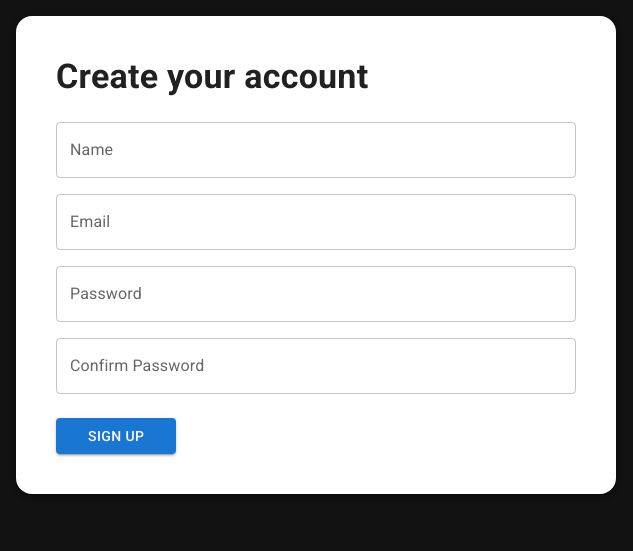
Test: Signup Component › navigates softly off page on success
The width and height of the screenshot is (633, 551).
Type "John" into the field named "name" at [316, 150], box [56,122,576,178]
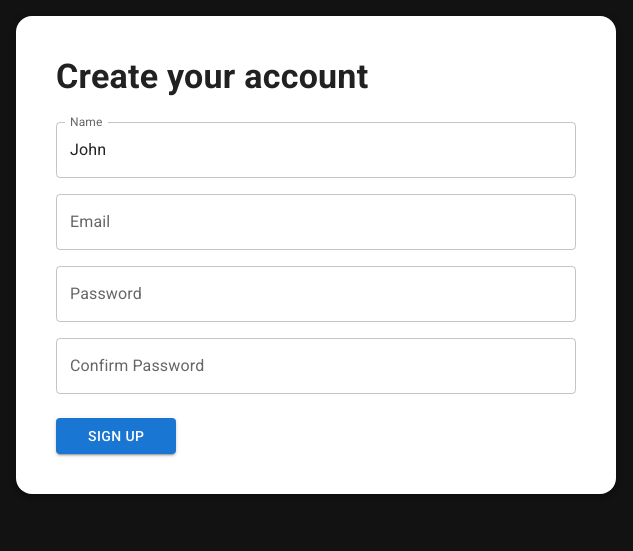
Type "john@test.com" into the field named "email" at [316, 222], box [56,194,576,250]
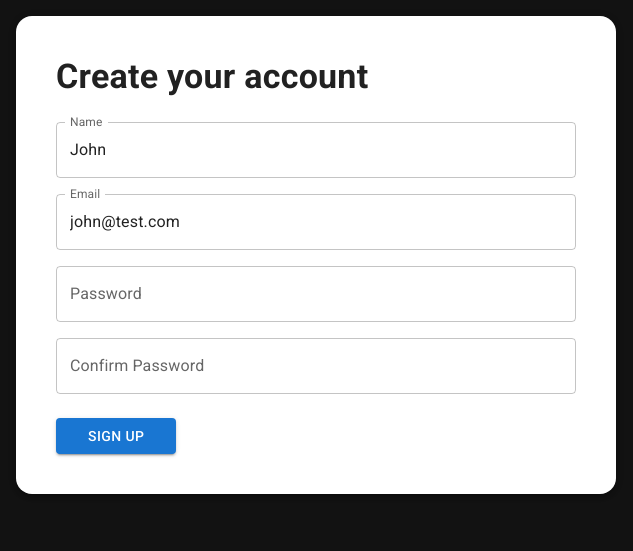
Type "password123" into the password field named "password1" at [316, 294], box [56,266,576,322]
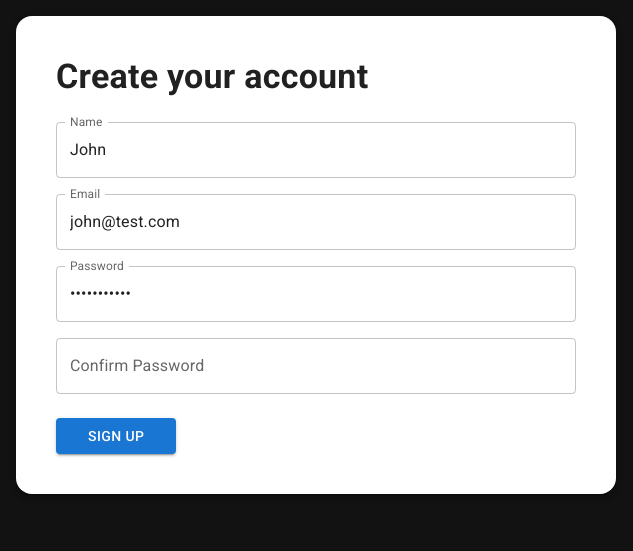
Type "password123" into the password field named "password2" at [316, 366], box [56,338,576,394]
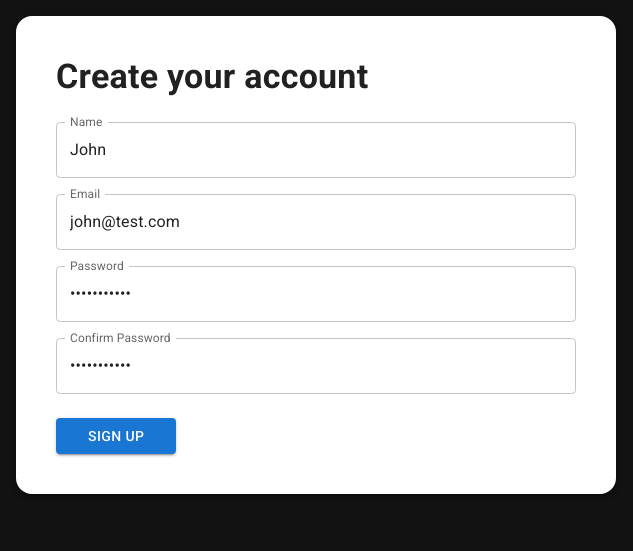
Click the submit button at [116, 436], box [56,418,176,454]
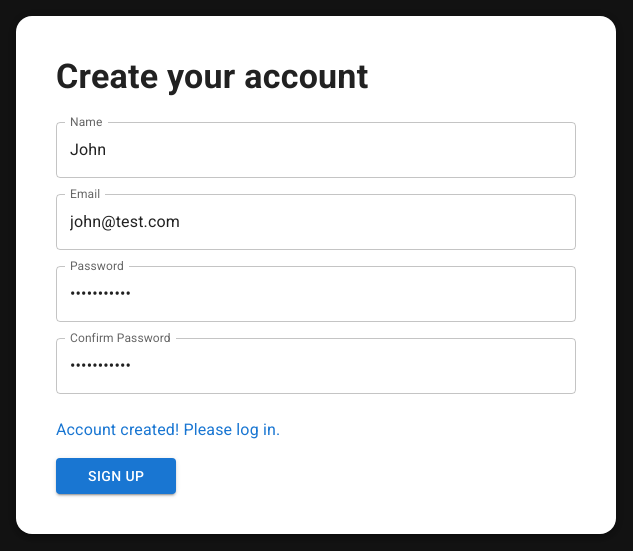
Expected: the text "Account created! Please log in." is shown, [56,420,280,439]
